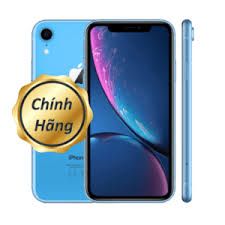iphone: (84, 18, 173, 201)
iphone10: (84, 18, 173, 201)
